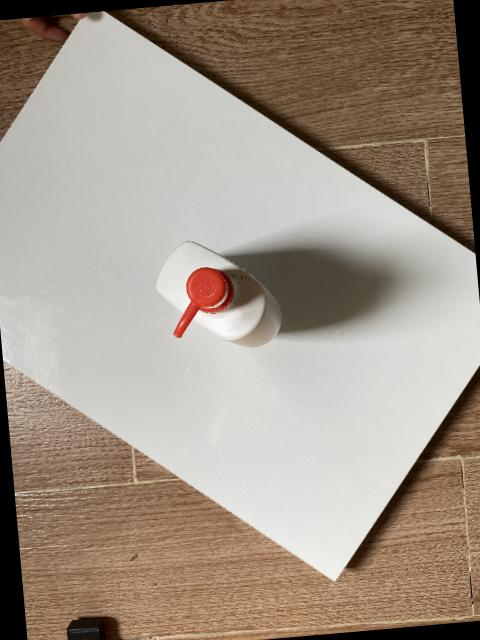life-buoy: (156, 241, 282, 347)
